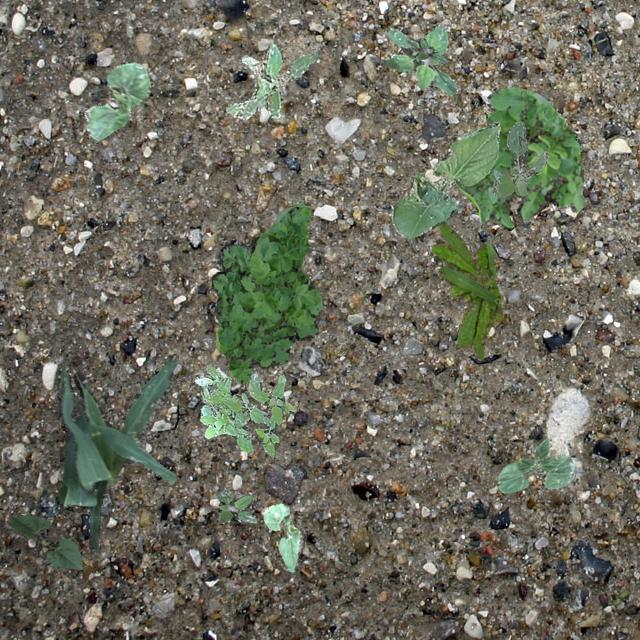crop: (54, 352, 178, 554), (390, 120, 500, 238), (84, 61, 150, 140), (496, 438, 576, 492), (8, 514, 84, 568), (262, 502, 300, 570)
weed: (210, 202, 320, 384), (454, 86, 584, 230), (431, 223, 502, 359), (194, 364, 298, 456), (225, 42, 318, 118), (384, 24, 456, 94), (492, 120, 548, 197), (217, 488, 256, 522), (404, 38, 446, 62)
